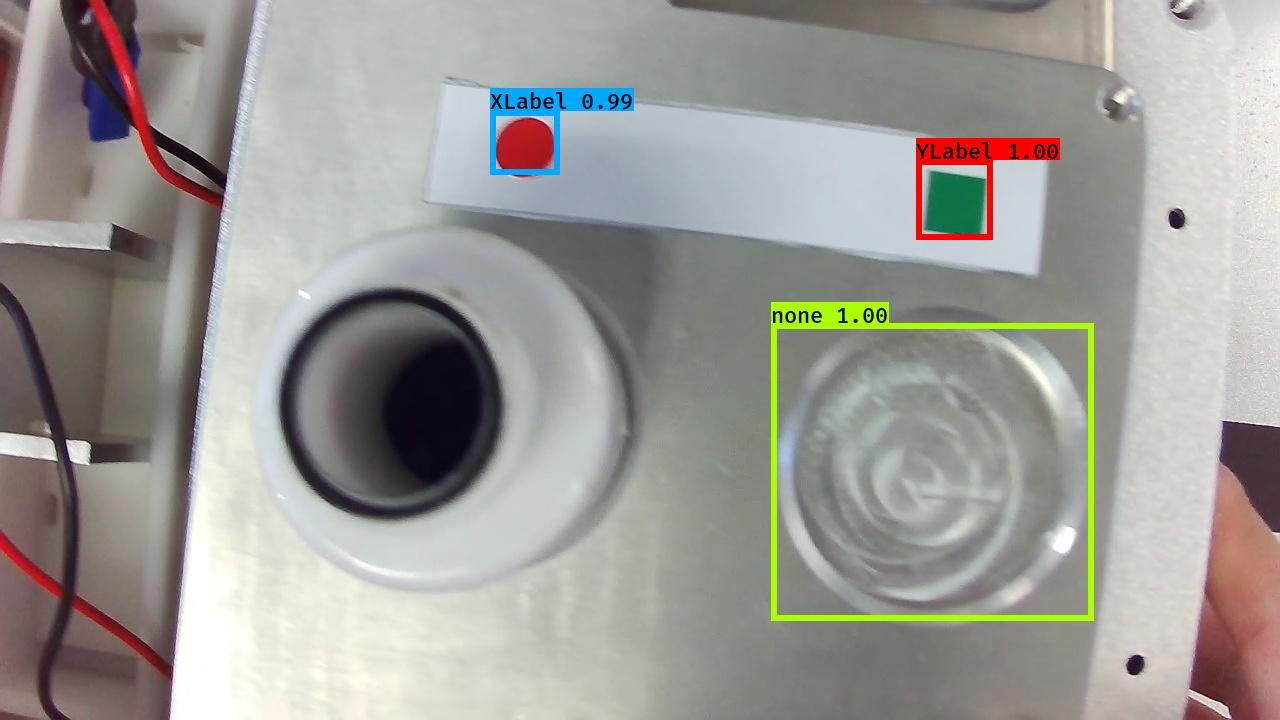XLabel: (491, 111, 558, 180)
YLabel: (921, 168, 989, 239)
none: (769, 301, 1102, 638)
whiteexcept: (234, 222, 648, 603)
